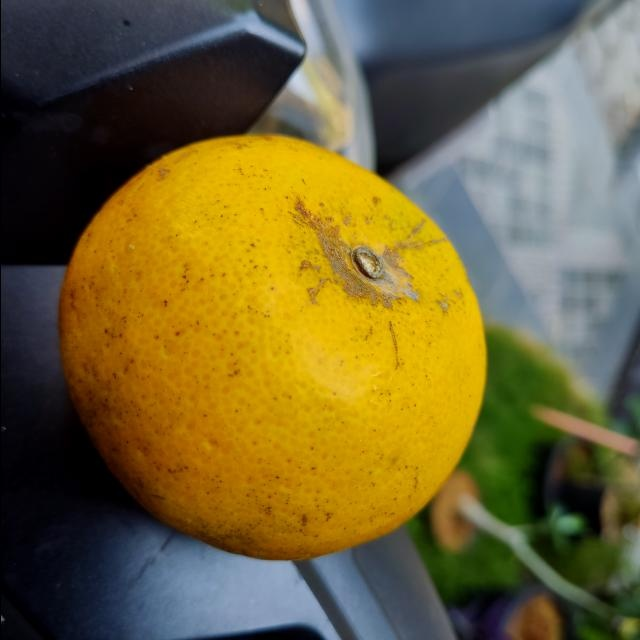agrume: (54, 133, 486, 561)
